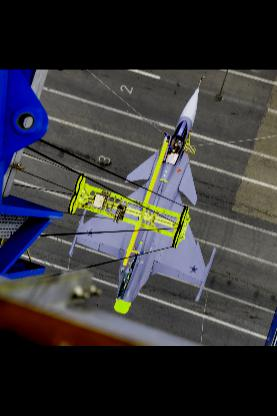JAS39: (67, 77, 214, 314)
